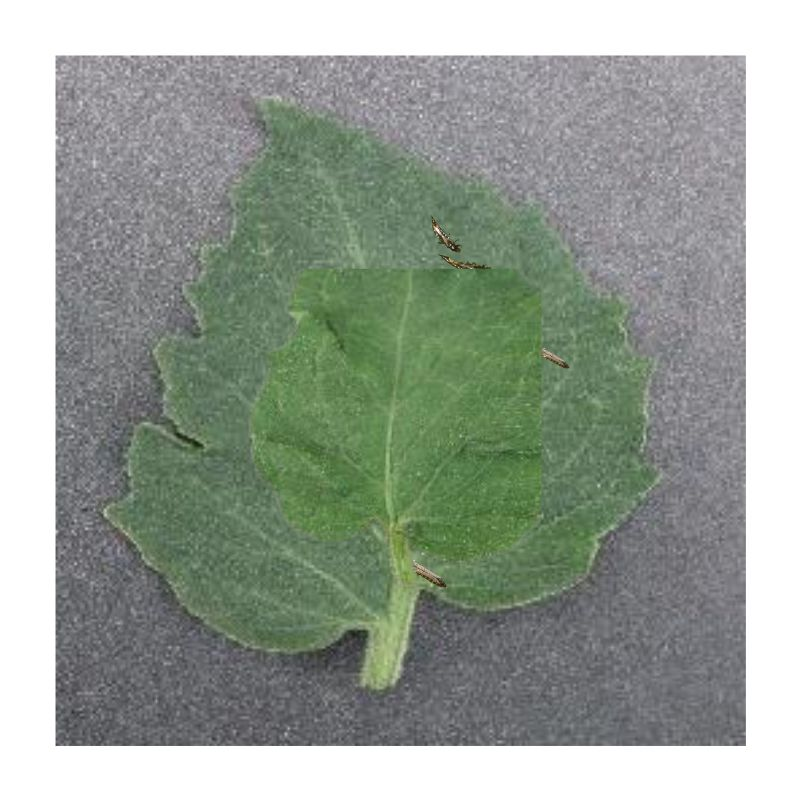thrips: (429, 215, 464, 252), (411, 557, 449, 587), (534, 347, 571, 370), (441, 256, 494, 272)
